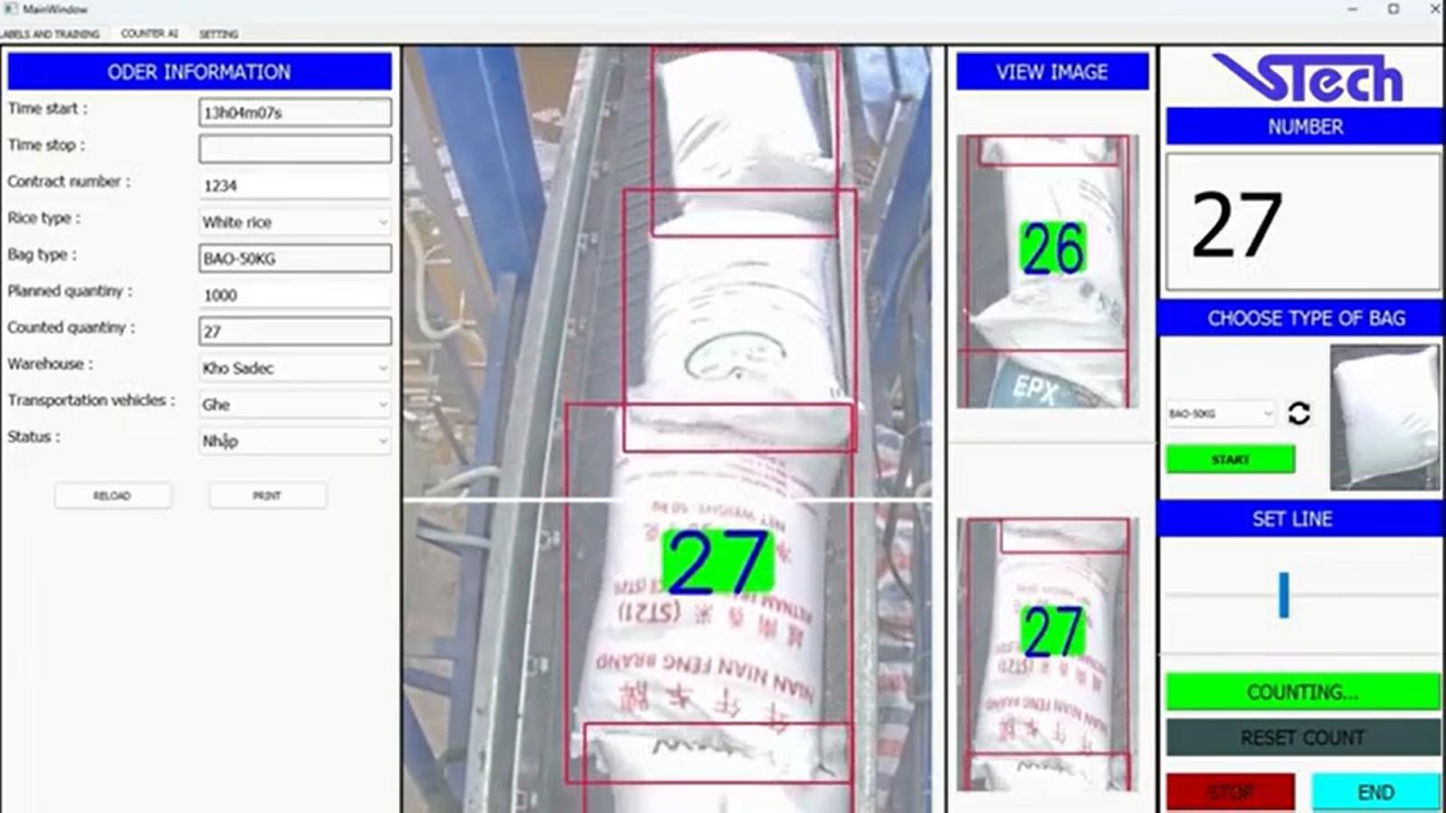rice-bag: (576, 415, 843, 775), (632, 209, 853, 449), (973, 137, 1127, 406), (971, 522, 1123, 791), (654, 51, 835, 224)
